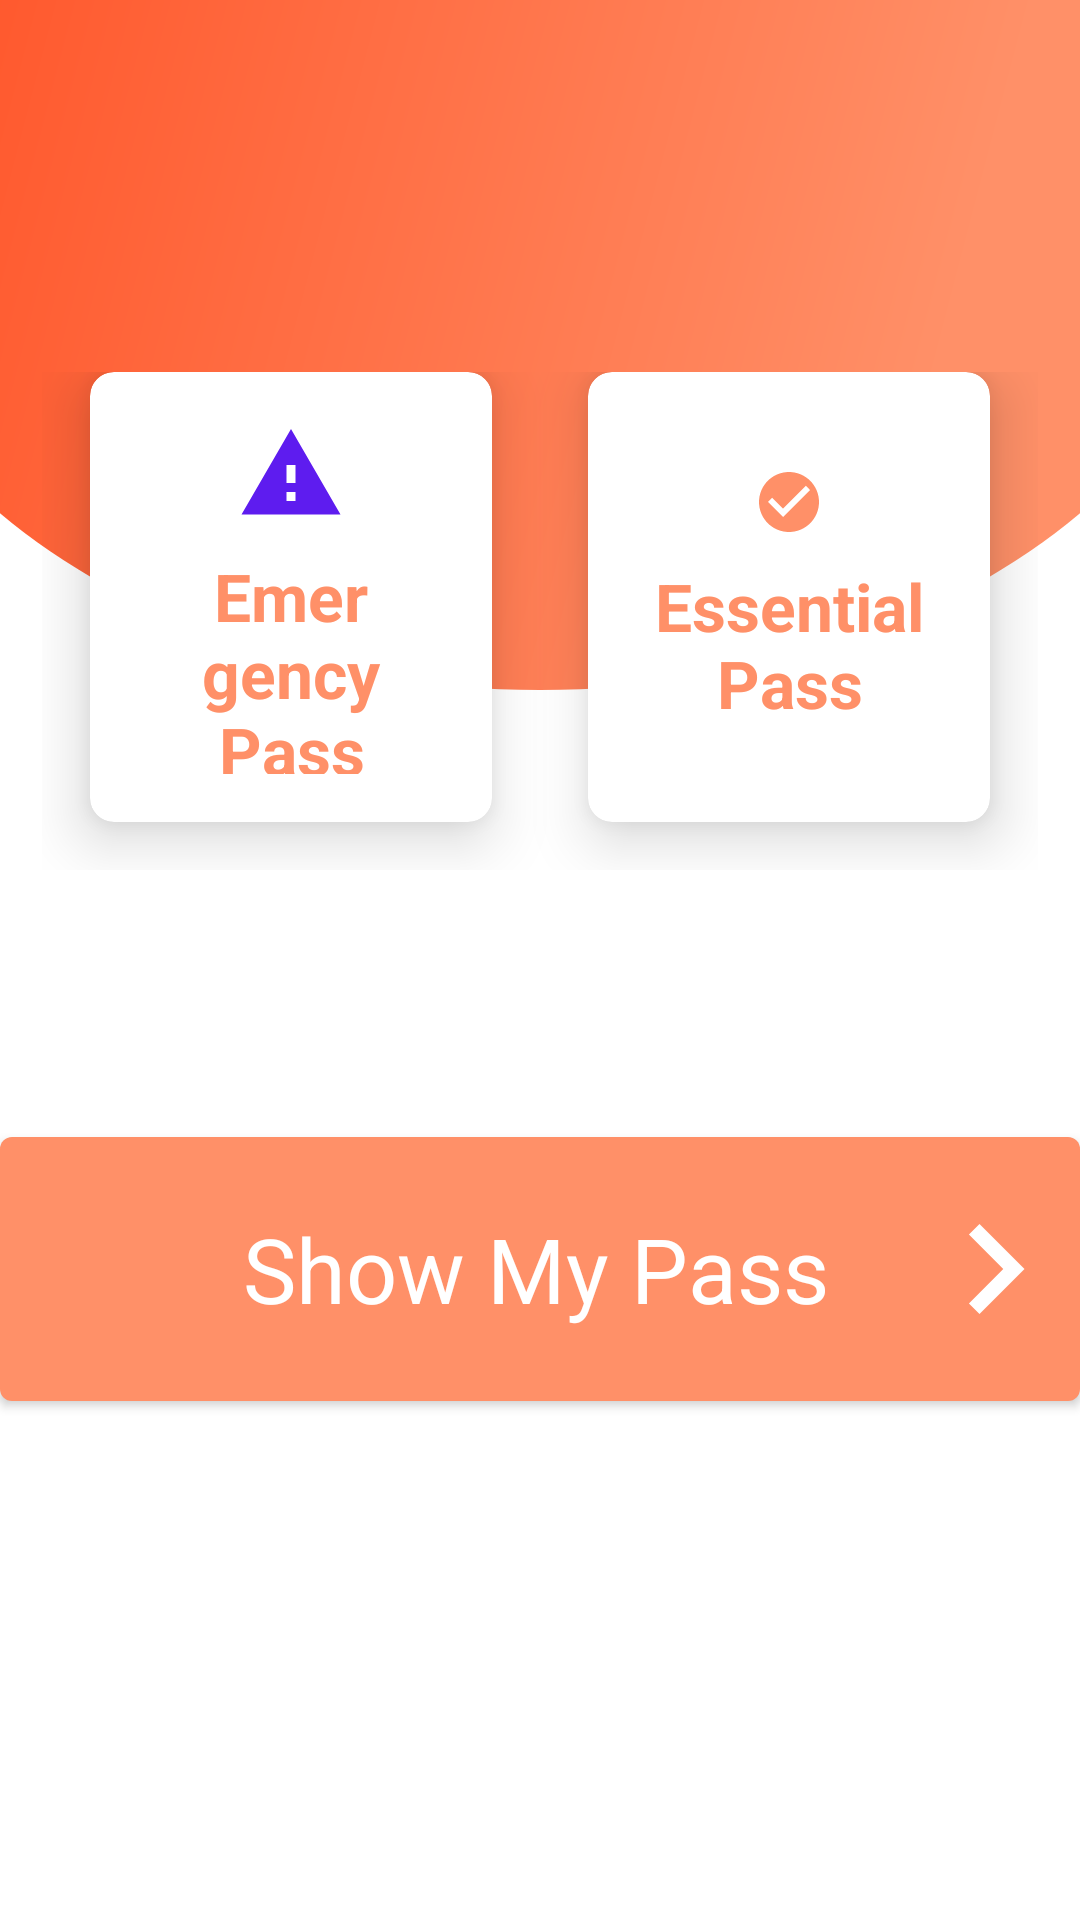

Where to tap for icons on this 1080px×1920px app screen, as (x=x, y=y):
check circle: (x=789, y=502)
warning: (x=291, y=472)
